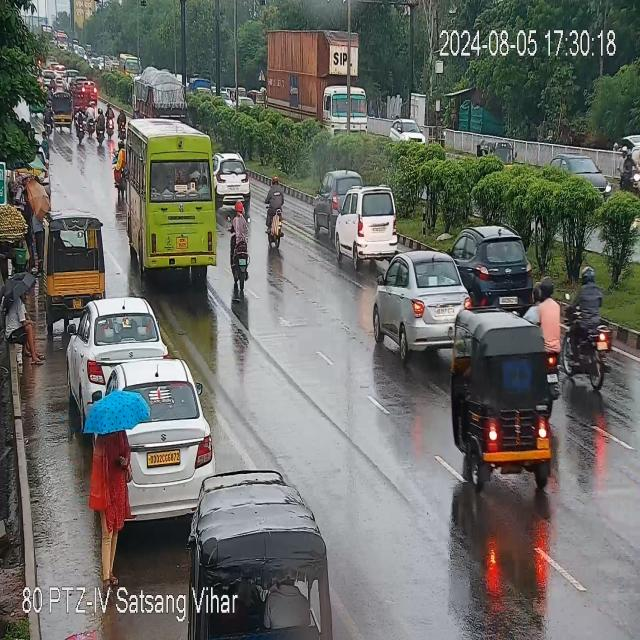2-wheelers: (536, 255, 611, 392), (228, 202, 252, 290), (263, 173, 284, 248), (97, 99, 128, 142), (75, 100, 99, 146), (114, 140, 125, 190)
auto: (446, 304, 554, 493), (36, 211, 116, 328), (478, 136, 514, 168), (49, 88, 71, 136)
bus: (125, 106, 215, 280), (251, 86, 264, 112)
car: (369, 223, 535, 358), (127, 372, 213, 522), (61, 299, 158, 403), (318, 163, 400, 264), (213, 151, 254, 209), (389, 109, 424, 147)
pedestrian: (92, 424, 124, 584), (0, 260, 47, 366), (15, 180, 42, 256)
truck: (268, 24, 374, 135), (119, 67, 189, 122)
